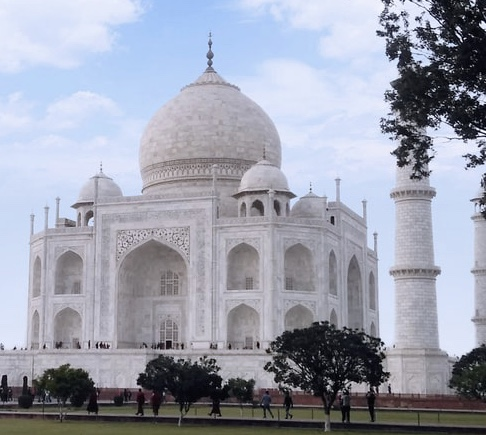Mosque: (2, 35, 451, 372)
